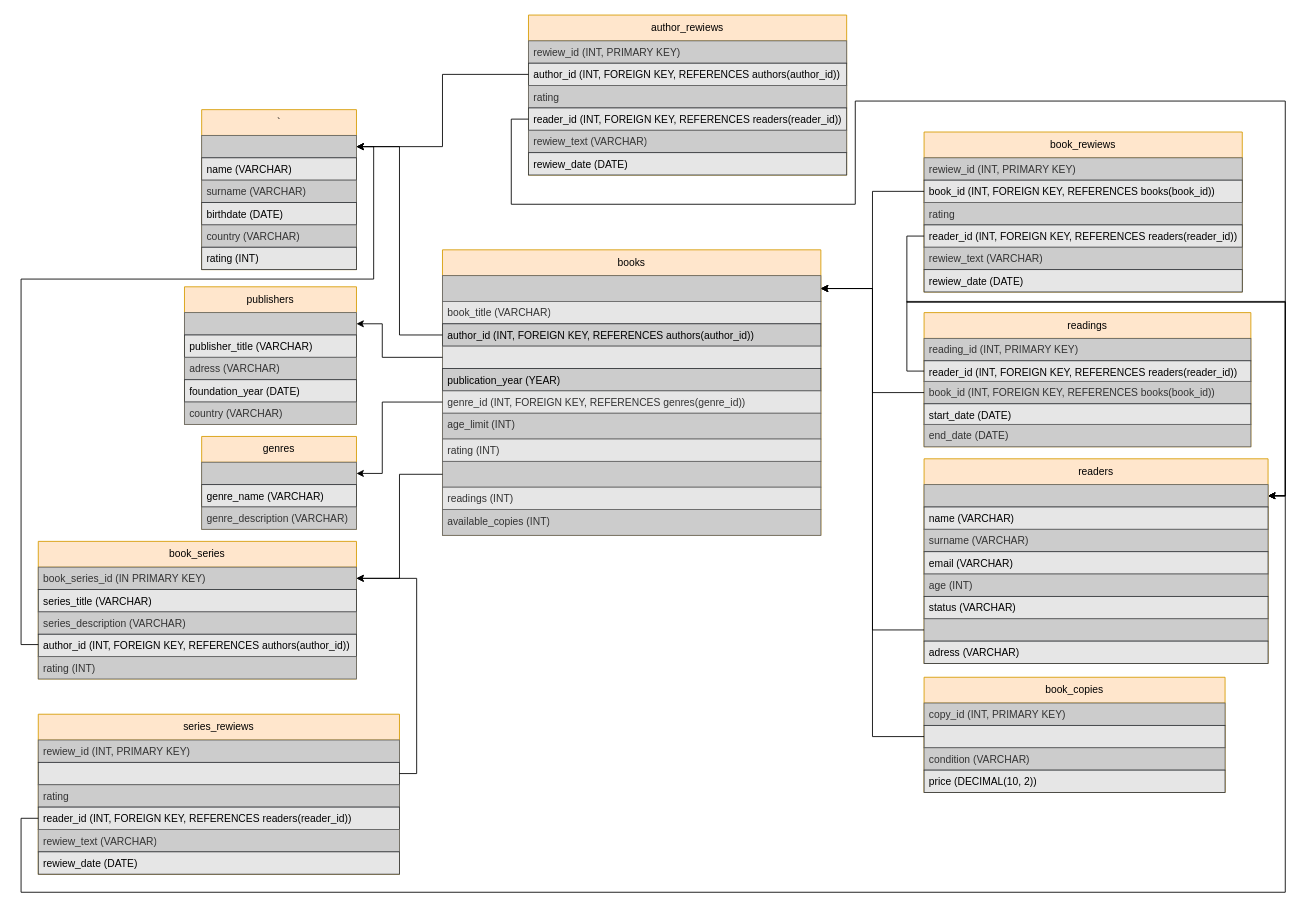
Some shapes in this 1307 by 914 pixel diagram are drawn without their labels. The centre of each missing label's shape, as x and y in pixels:
"author_id (INT, PRIMARY KEY)" belongs at (x=278, y=146).
"book_id ( INT, FOREIGN KEY, REFERENCES books(book_id))" belongs at (x=1074, y=736).
"book_id (INT, PRIMARY KEY)" belongs at (x=631, y=288).
"book_series (INT, FOREIGN KEY, REFERENCES book_series(book_series_id))" belongs at (x=631, y=474).
"genre_id (INT, PRIMARY KEY)" belongs at (x=278, y=473).
"last_readed_book (INT, FOREIGN KEY, REFERENCES books(book_id))" belongs at (x=1095, y=629).
"publisher_id (INT, FOREIGN KEY, REFERENCES publishers(publisher_id))" belongs at (x=631, y=357).
"publisher_id (INT, PRIMARY KEY)" belongs at (x=270, y=323).
"reader_id (INT, PRIMARY KEY)" belongs at (x=1095, y=495).
"series_id (INT, FOREIGN KEY, REFERENCES book_series(book_series_id))" belongs at (x=218, y=773).
